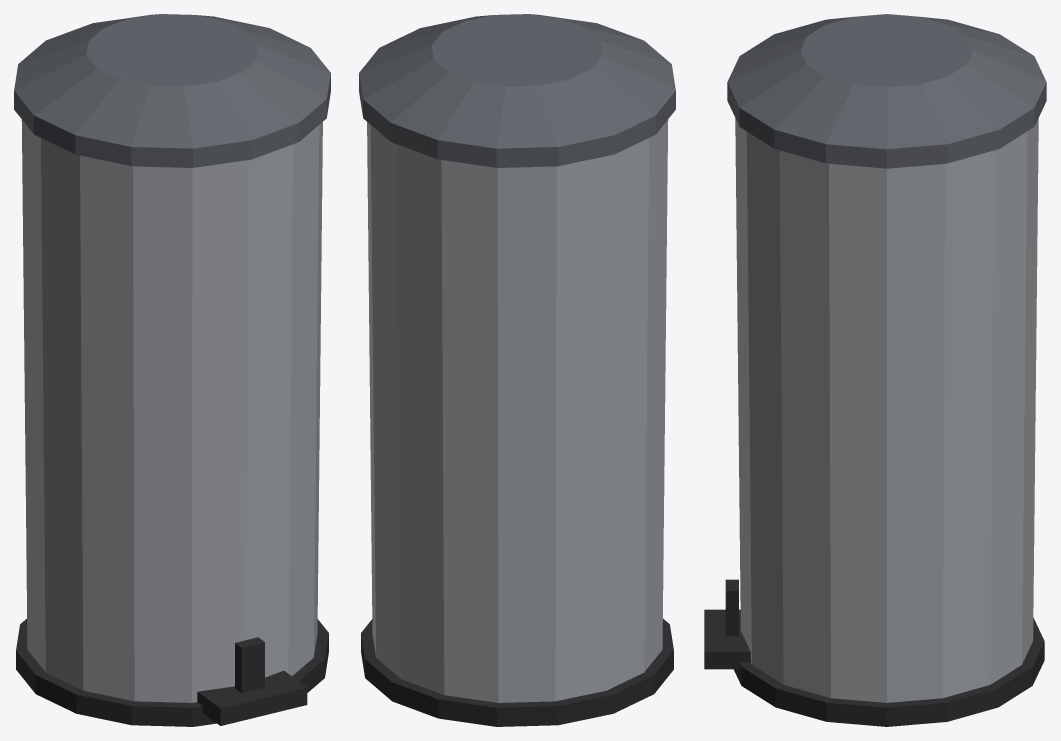
The model's file is FN_Bin_Pedal.obj.
3 renders of one model, left to right at view 1: azimuth 30°, elevation 25°; view 2: azimuth 150°, elevation 25°; view 3: azimuth 270°, elevation 25°, orthographic.
Visible parts, largest first — view 1: FN_Bin_Pedal; view 2: FN_Bin_Pedal; view 3: FN_Bin_Pedal.
Boxes of the visible parts, bbox=[...] form: FN_Bin_Pedal: bbox=[14, 14, 330, 726]; FN_Bin_Pedal: bbox=[359, 14, 675, 726]; FN_Bin_Pedal: bbox=[704, 14, 1046, 726].
Size of the model in its own units: 0.332 by 0.7 by 0.356.
1 material, 1 textured.
